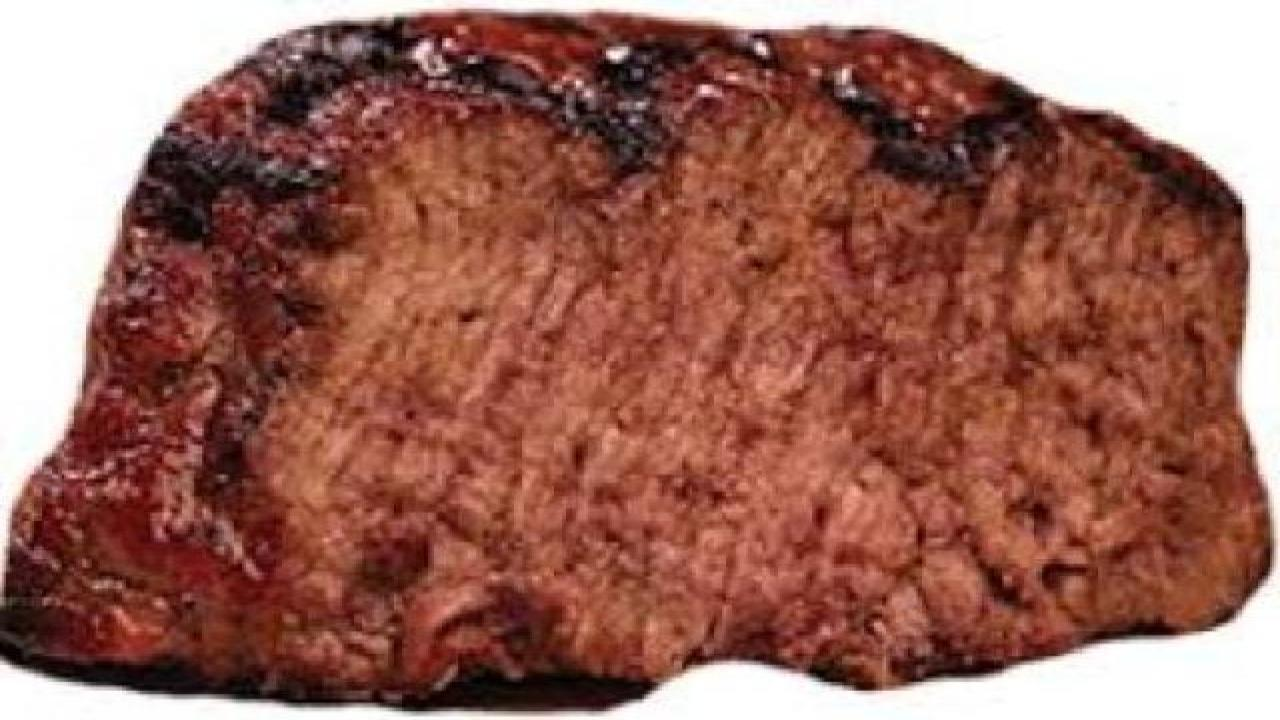Carne: (0, 8, 1260, 720)
